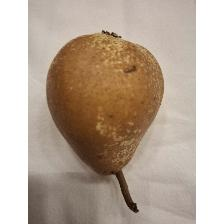Birne: (43, 26, 167, 216)
